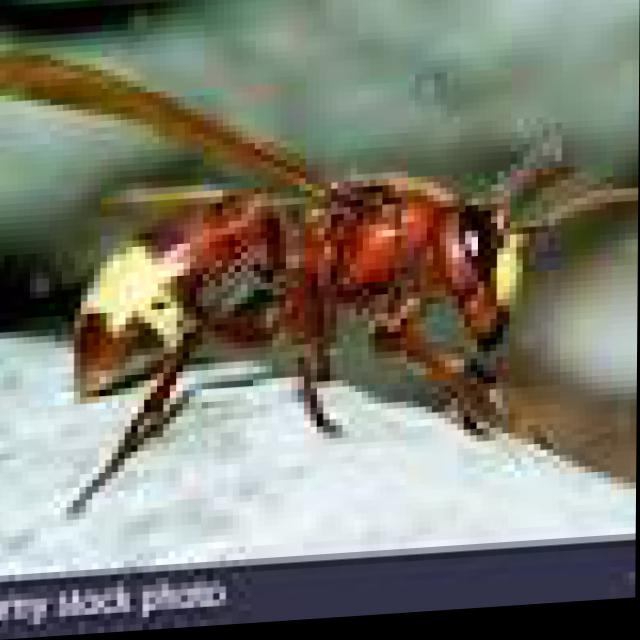Vespa Orientalis: (0, 0, 634, 525)
